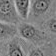cell: (15, 2, 26, 15), (32, 42, 43, 54), (6, 24, 17, 34), (13, 45, 23, 55), (25, 35, 35, 45), (19, 16, 28, 27), (26, 1, 36, 10), (47, 33, 56, 43), (35, 31, 44, 40), (1, 1, 9, 10)
